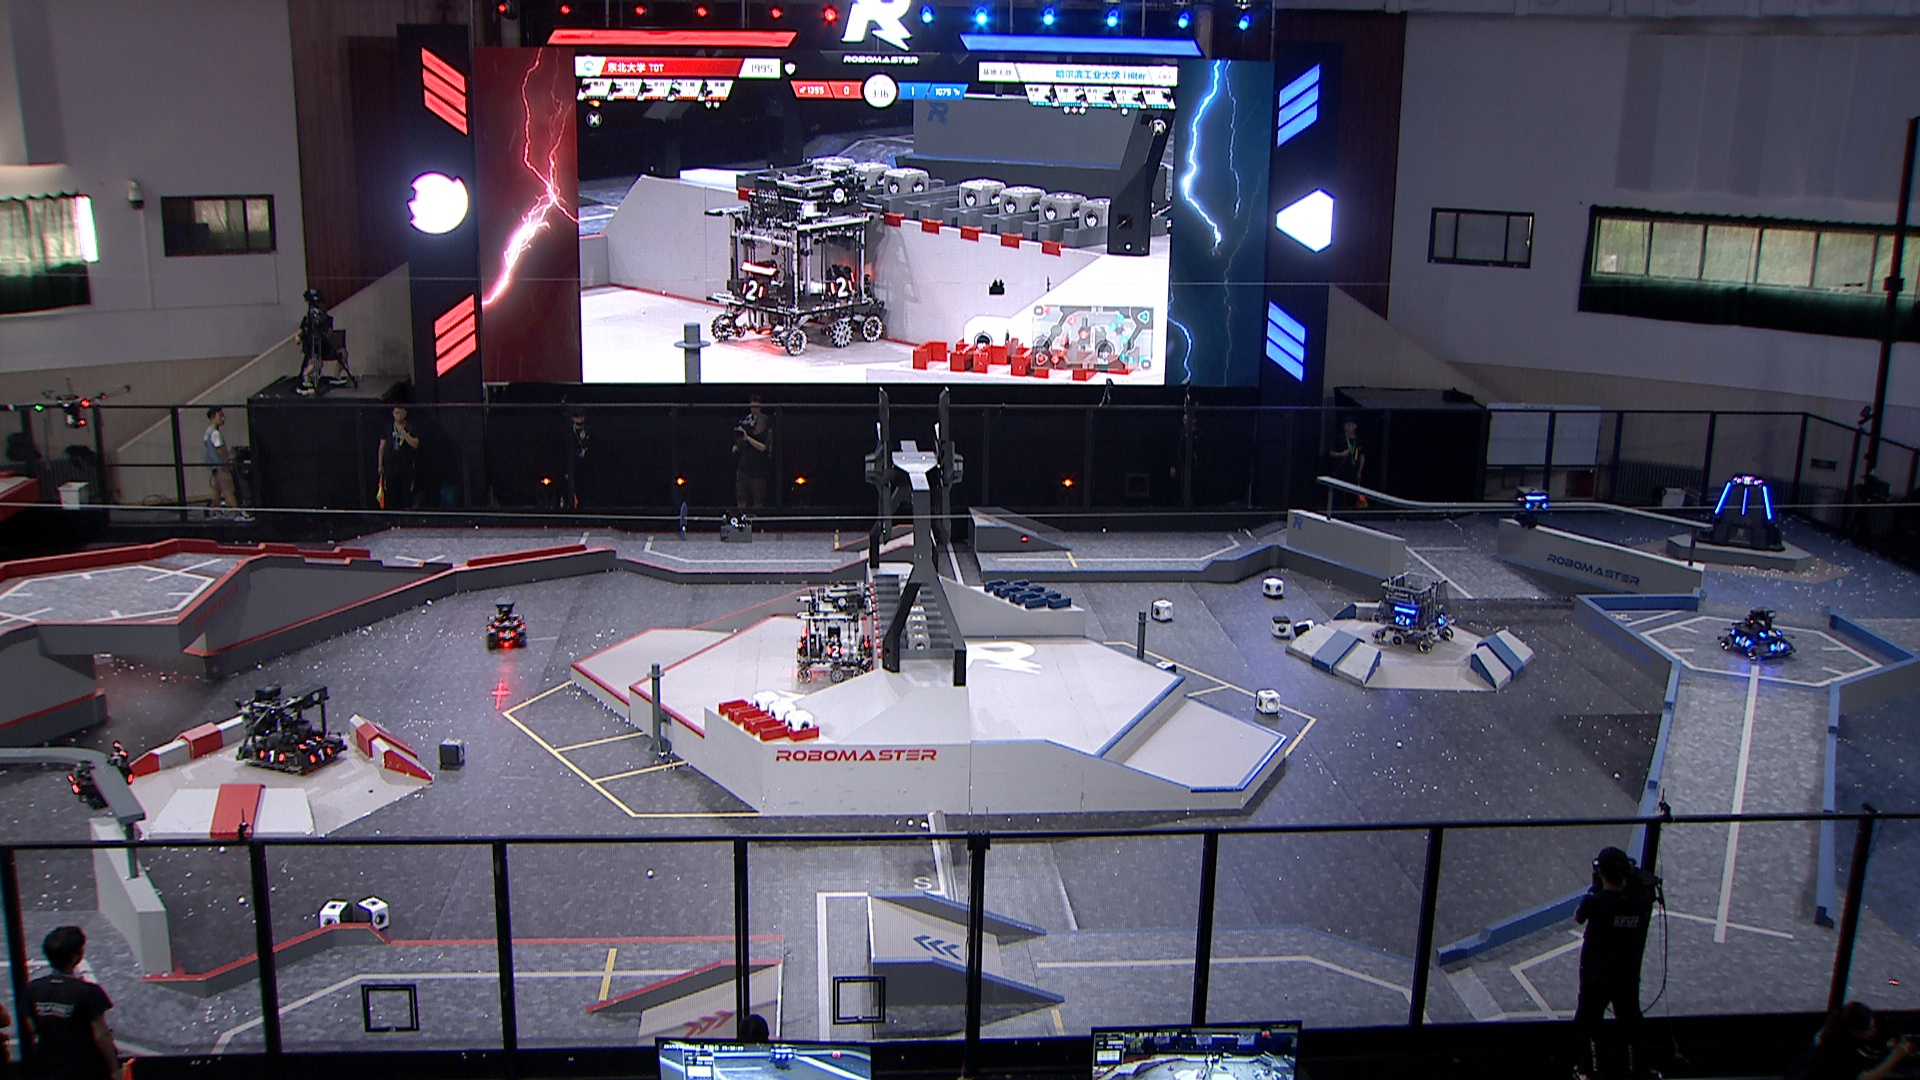armor: (1756, 485, 1776, 524), (1713, 479, 1733, 517), (256, 745, 287, 765), (305, 744, 334, 765), (295, 731, 323, 752), (62, 771, 82, 798), (1523, 498, 1549, 516), (1759, 624, 1784, 640), (823, 644, 847, 659), (1731, 633, 1753, 650), (1391, 613, 1414, 629), (1738, 485, 1749, 517), (496, 628, 518, 642), (1768, 641, 1788, 655), (1433, 611, 1451, 626), (495, 618, 520, 628)
base: (1689, 469, 1788, 551)
car: (231, 680, 345, 774), (793, 580, 884, 687), (1365, 570, 1457, 654), (1718, 608, 1795, 666), (484, 600, 533, 650)
ignore: (702, 162, 884, 356), (1733, 473, 1764, 488)
watcher: (62, 735, 141, 814), (1509, 483, 1553, 529)
